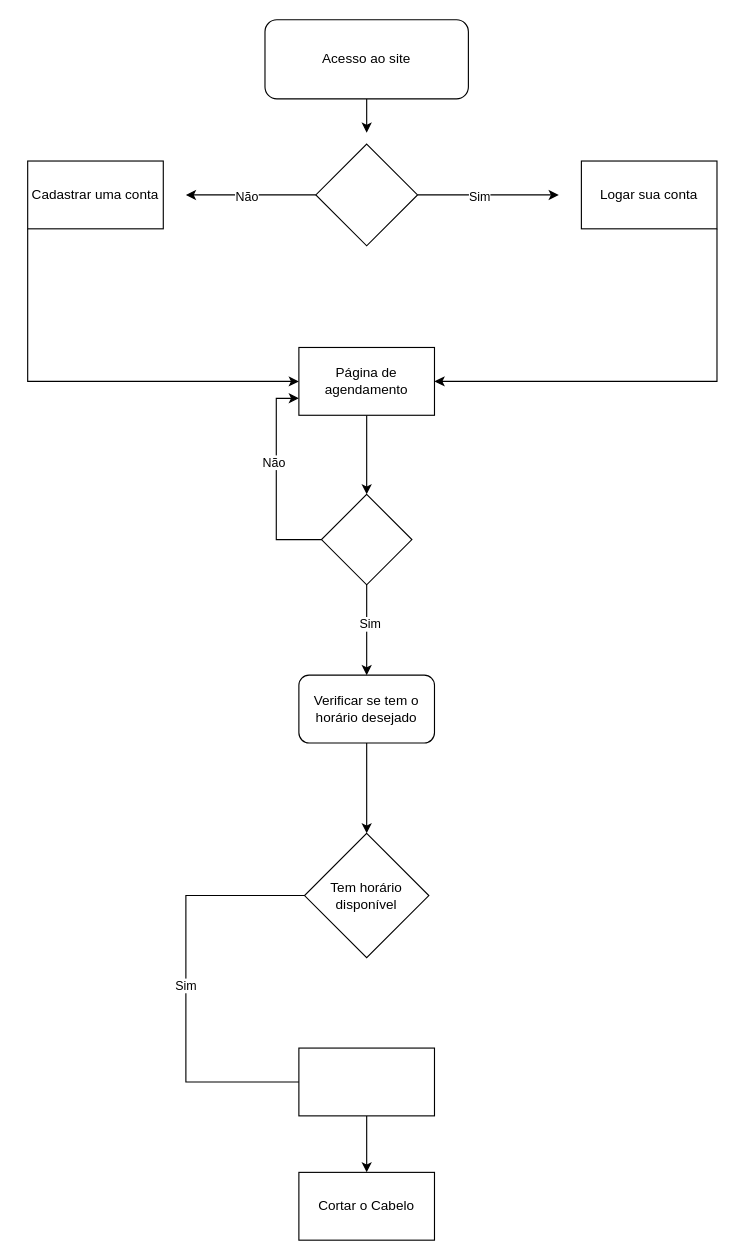
Image size: 746x1260. Some labels were removed from this diagram. The centre of each missing label's shape, as x and y in pixels:
"Agendar o horário do corte" belongs at point (366, 1081).
"Agendou?" belongs at point (366, 539).
"Já tem uma conta?" belongs at point (366, 194).
